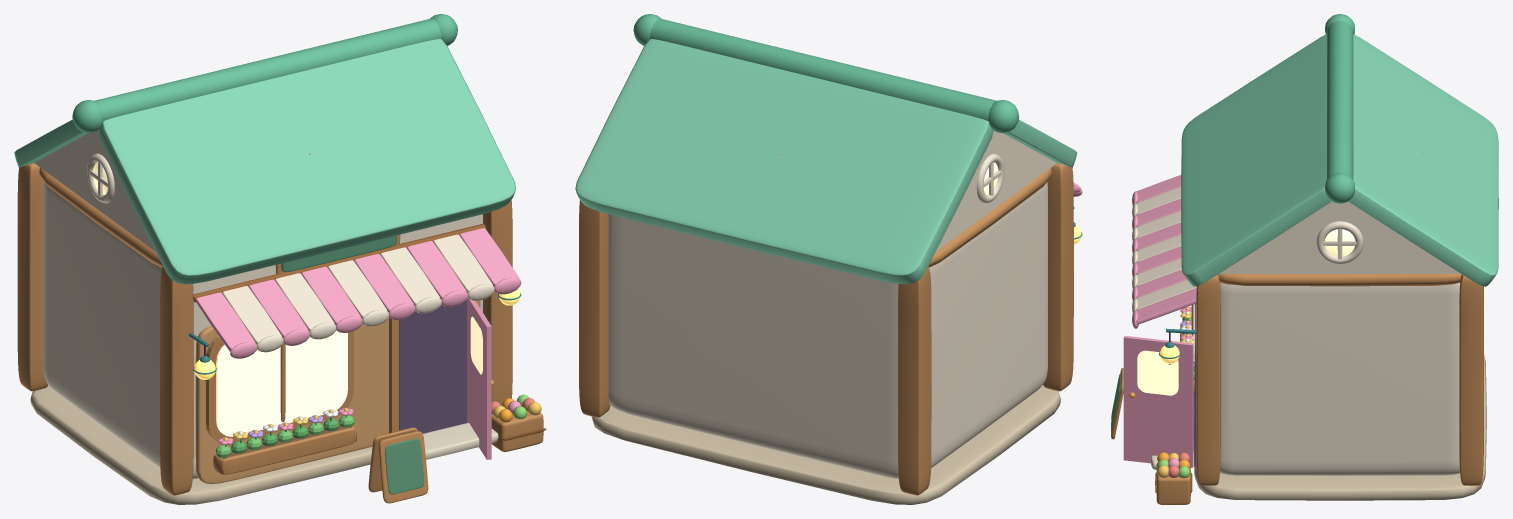
Rendered from shop.glb.
3 views of the same model, side by side, from view 1: azimuth 30°, elevation 25°; view 2: azimuth 150°, elevation 25°; view 3: azimuth 270°, elevation 25° (orthographic). The views are drawn at different scales.
Parts seen in each view (by area): view 1: shop; view 2: shop; view 3: shop.
Part boxes in pixels (bbox=[...]): shop: bbox=[14, 14, 546, 504]; shop: bbox=[575, 14, 1082, 504]; shop: bbox=[1111, 14, 1498, 504].
Bounding box in the file's own units: 5.26 × 4.71 × 5.01.
1 material, 1 textured.
